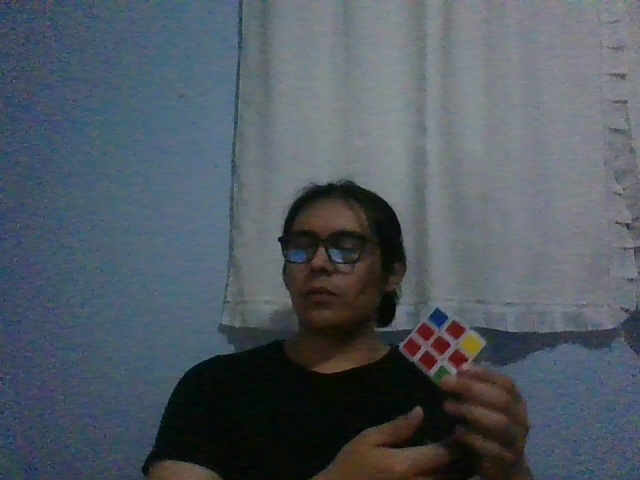rubik: (398, 306, 487, 387)
